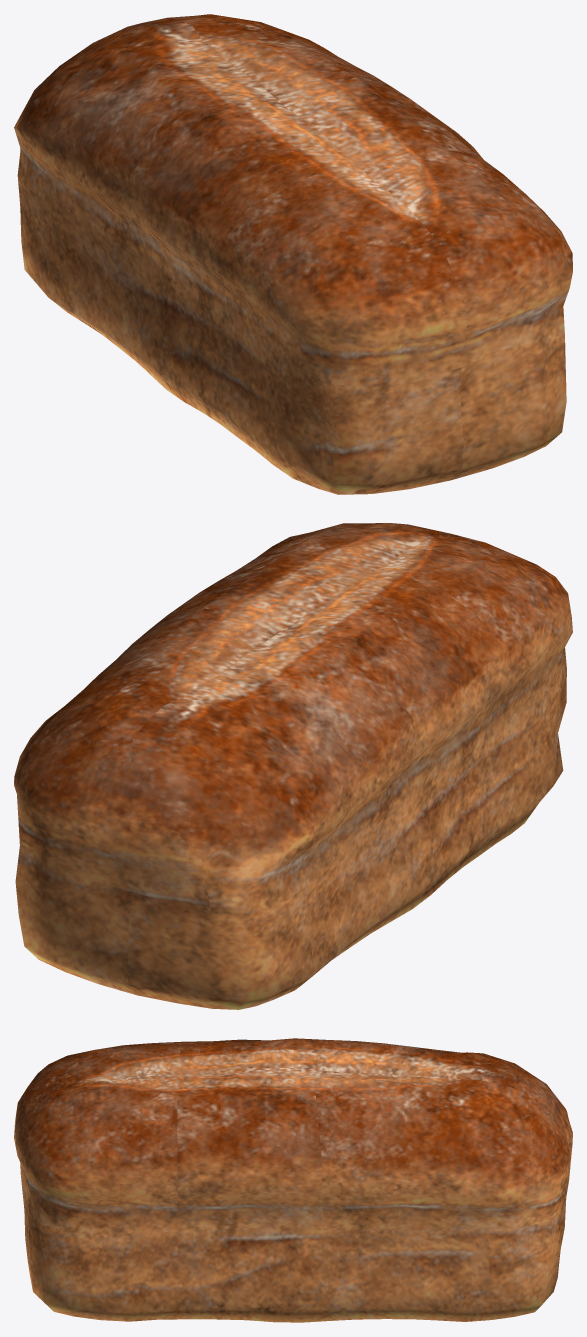
Rendered from Bread_2_bread1_b_mesh.obj.
3 renders of one model, top to bottom at view 1: azimuth 30°, elevation 25°; view 2: azimuth 150°, elevation 25°; view 3: azimuth 270°, elevation 25°, orthographic. The views are drawn at different scales.
Size of the model in its own units: 0.1388 by 0.1224 by 0.2816.
